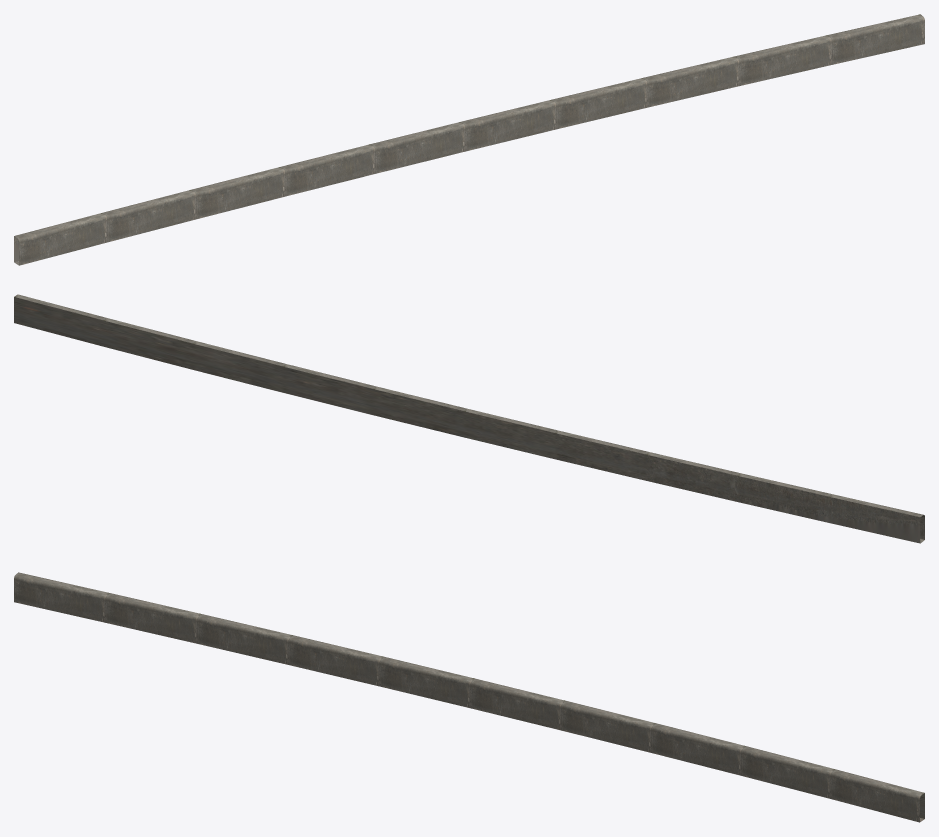
Rendered from SM_Curb_17.glb.
3 renders of one model, top to bottom at view 1: azimuth 30°, elevation 25°; view 2: azimuth 150°, elevation 25°; view 3: azimuth 330°, elevation 25°, orthographic.
Visible parts, largest first — view 1: SM_Curb_17; view 2: SM_Curb_17; view 3: SM_Curb_17.
Part boxes in pixels (x1,y1,x2,y2): SM_Curb_17: [14, 14, 924, 265]; SM_Curb_17: [14, 294, 924, 543]; SM_Curb_17: [14, 572, 924, 822].
Size of the model in its own units: 2713 by 75.01 by 52.9.
Materials: 1 (1 with a texture image).
